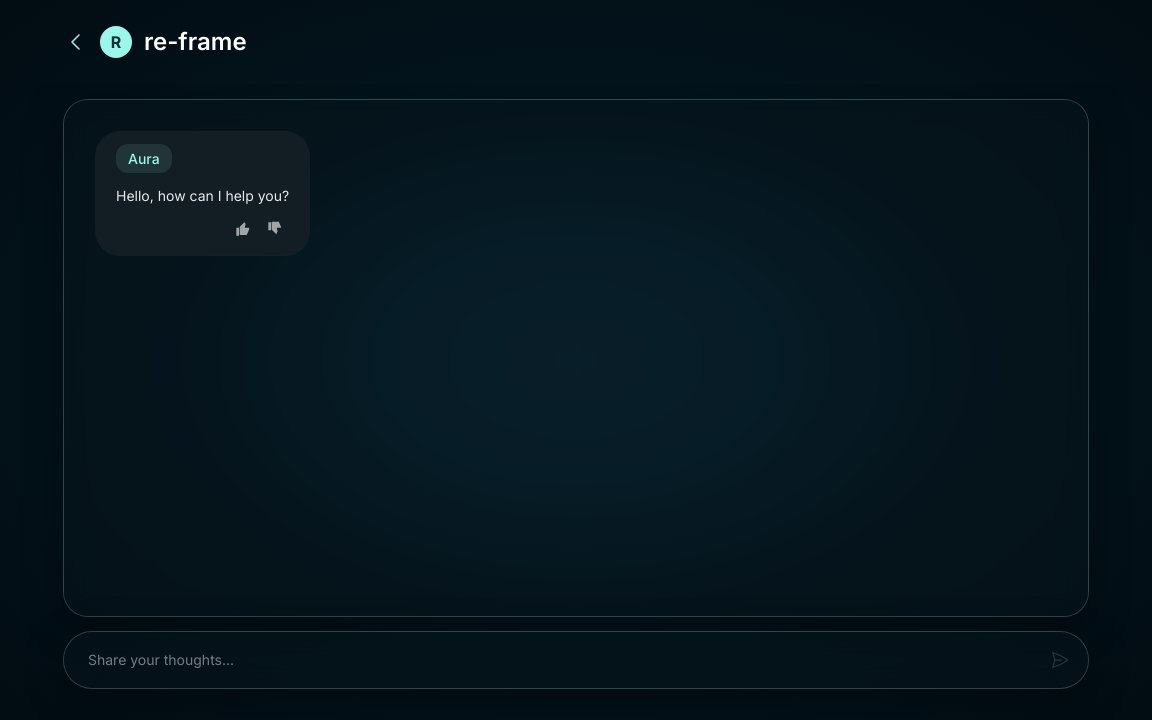
Test: ChatClient - Inline Feedback › shows input field when thumbs up is clicked
Expected: the text "Hello, how can I help you?" is shown, [116,185,289,207]
# Find and click thumbs up button
Step 1. Click the button named "Thumbs up" → (243, 229), box [229,215,257,243]
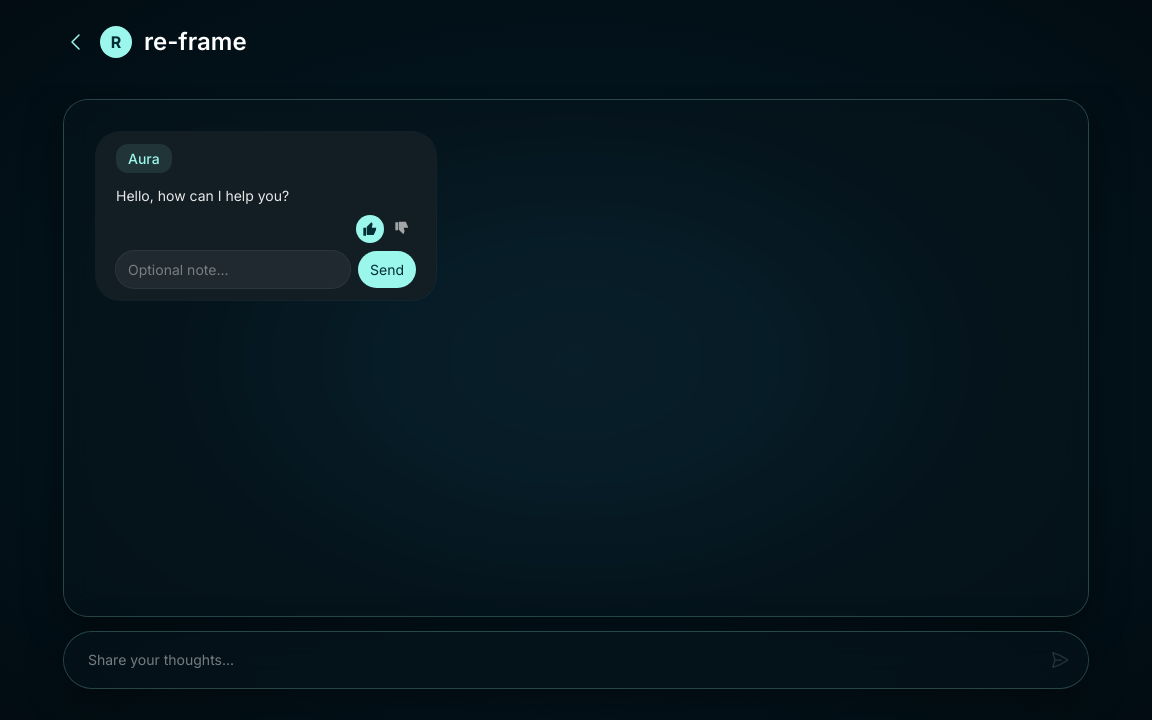
Expected: the field with placeholder "Optional note…" is enabled, [116,251,350,288]
Expected: the button "Send" is shown, [358,251,416,288]
